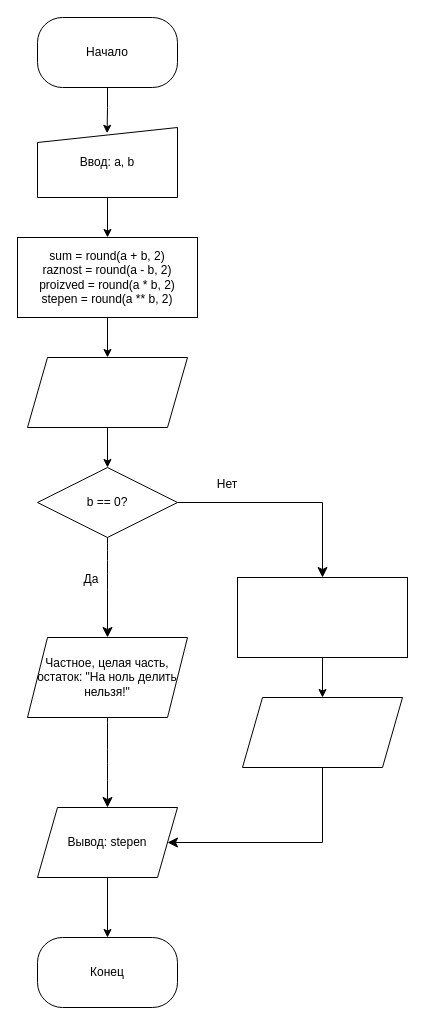
This 425x1025 diagram has some shape labels left out. Here are the shapes that lost their labels. From the top down, the centre of each, then its label:
point 107,392: Вывод: sum, raznost, proizved
point 322,617: chastnoe = round(a/b, 2) celaya = round(a//b, 2) ostatok = round(a%b, 2)
point 322,732: Вывод: chastnoe, celaya, ostatok
